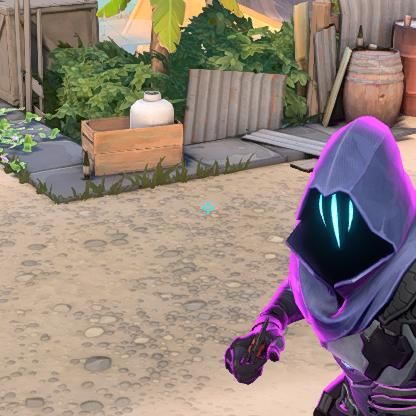enemyBody: (359, 288, 416, 416)
enemyHead: (310, 192, 402, 272)
